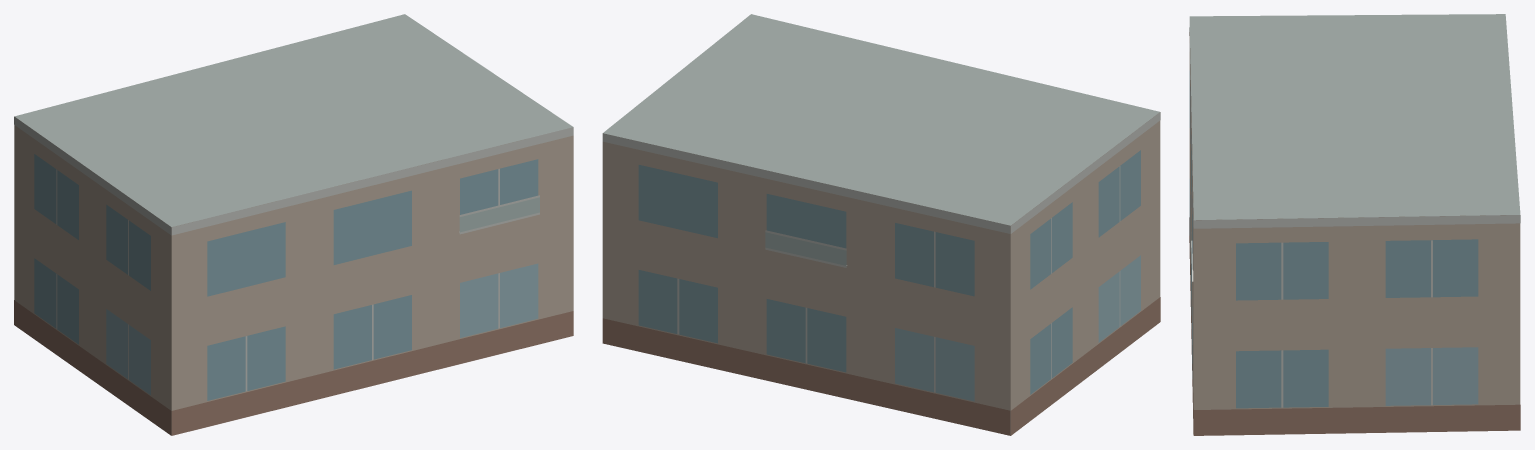
The model's file is survey-upis-32669953.glb.
3 renders of one model, left to right at view 1: azimuth 30°, elevation 25°; view 2: azimuth 150°, elevation 25°; view 3: azimuth 270°, elevation 25°, orthographic. The views are drawn at different scales.
Visible parts, largest first — view 1: survey-upis-32669953.tmp; view 2: survey-upis-32669953.tmp; view 3: survey-upis-32669953.tmp.
Boxes of the visible parts, x1,y1,x2,y2 form: survey-upis-32669953.tmp: (14, 14, 573, 435); survey-upis-32669953.tmp: (602, 14, 1160, 435); survey-upis-32669953.tmp: (1189, 14, 1520, 435).
Size of the model in its own units: 12.51 by 6.1 by 8.5.
